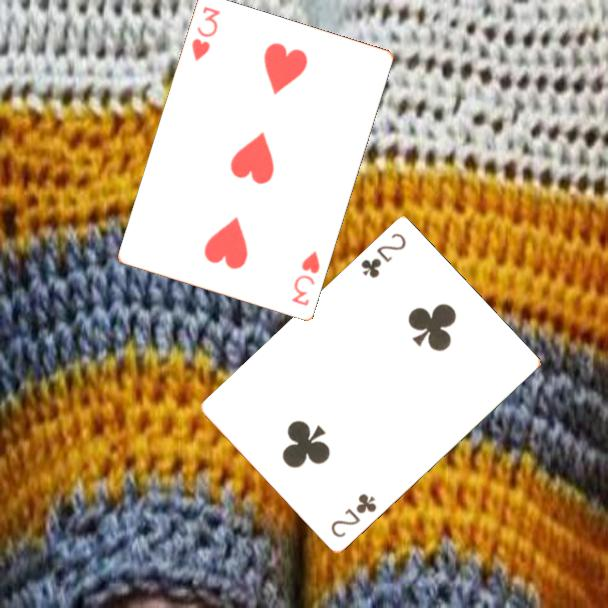c02: (357, 230, 409, 282), (327, 490, 379, 541)
h03: (288, 247, 323, 309), (188, 3, 223, 64)
